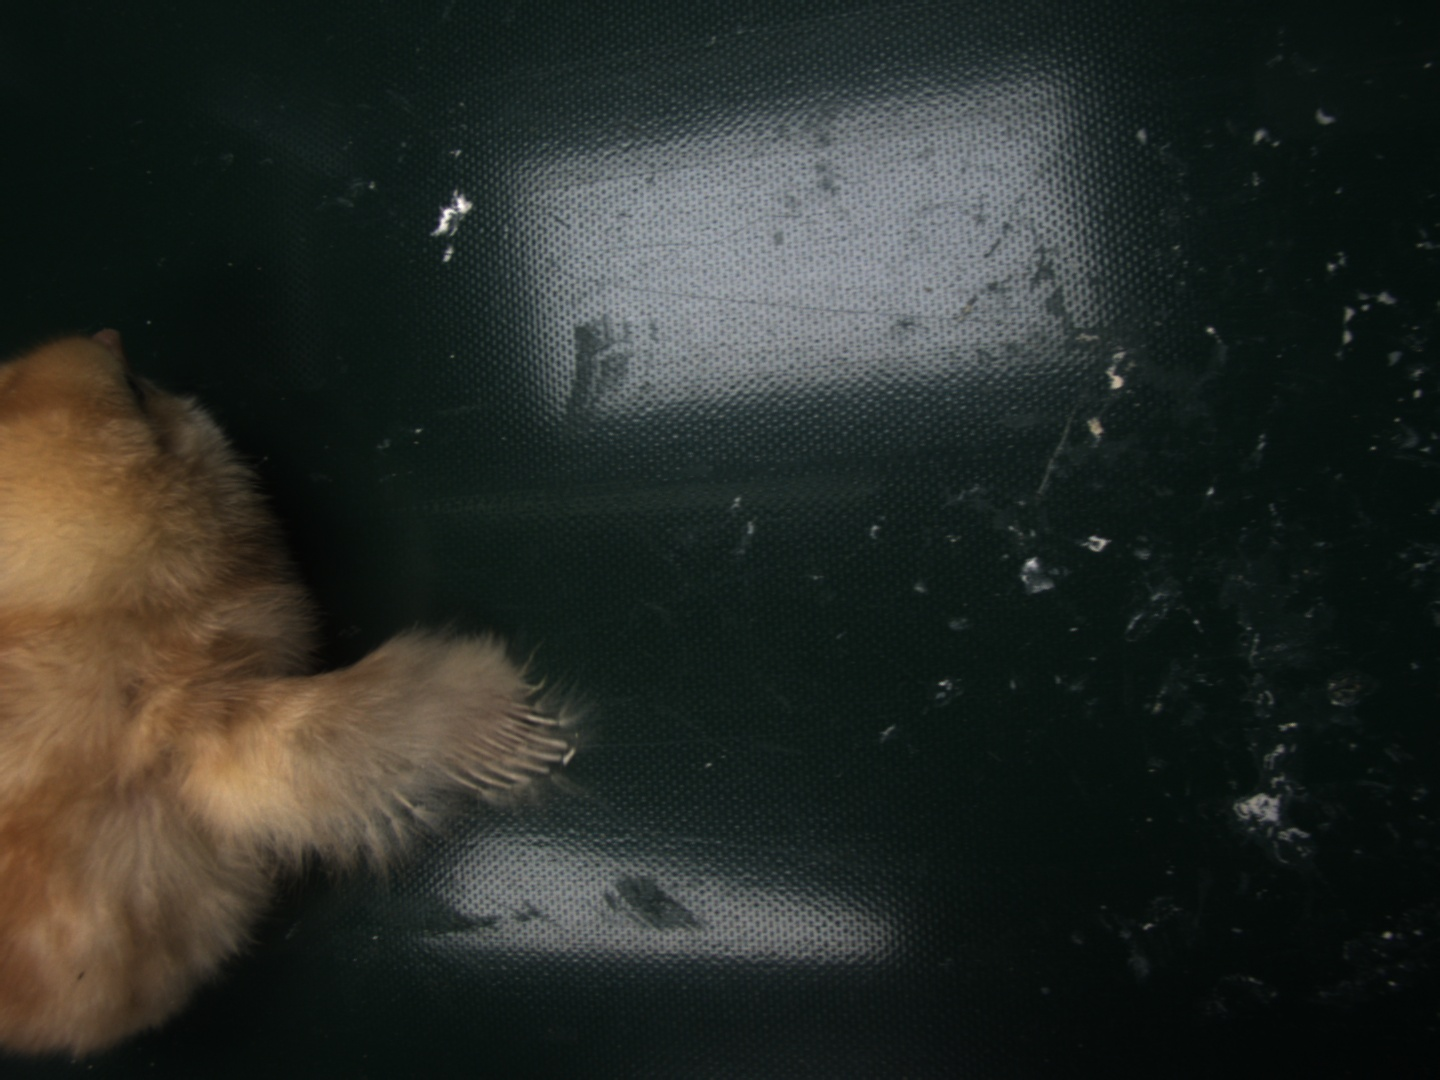female: (444, 703, 567, 791)
